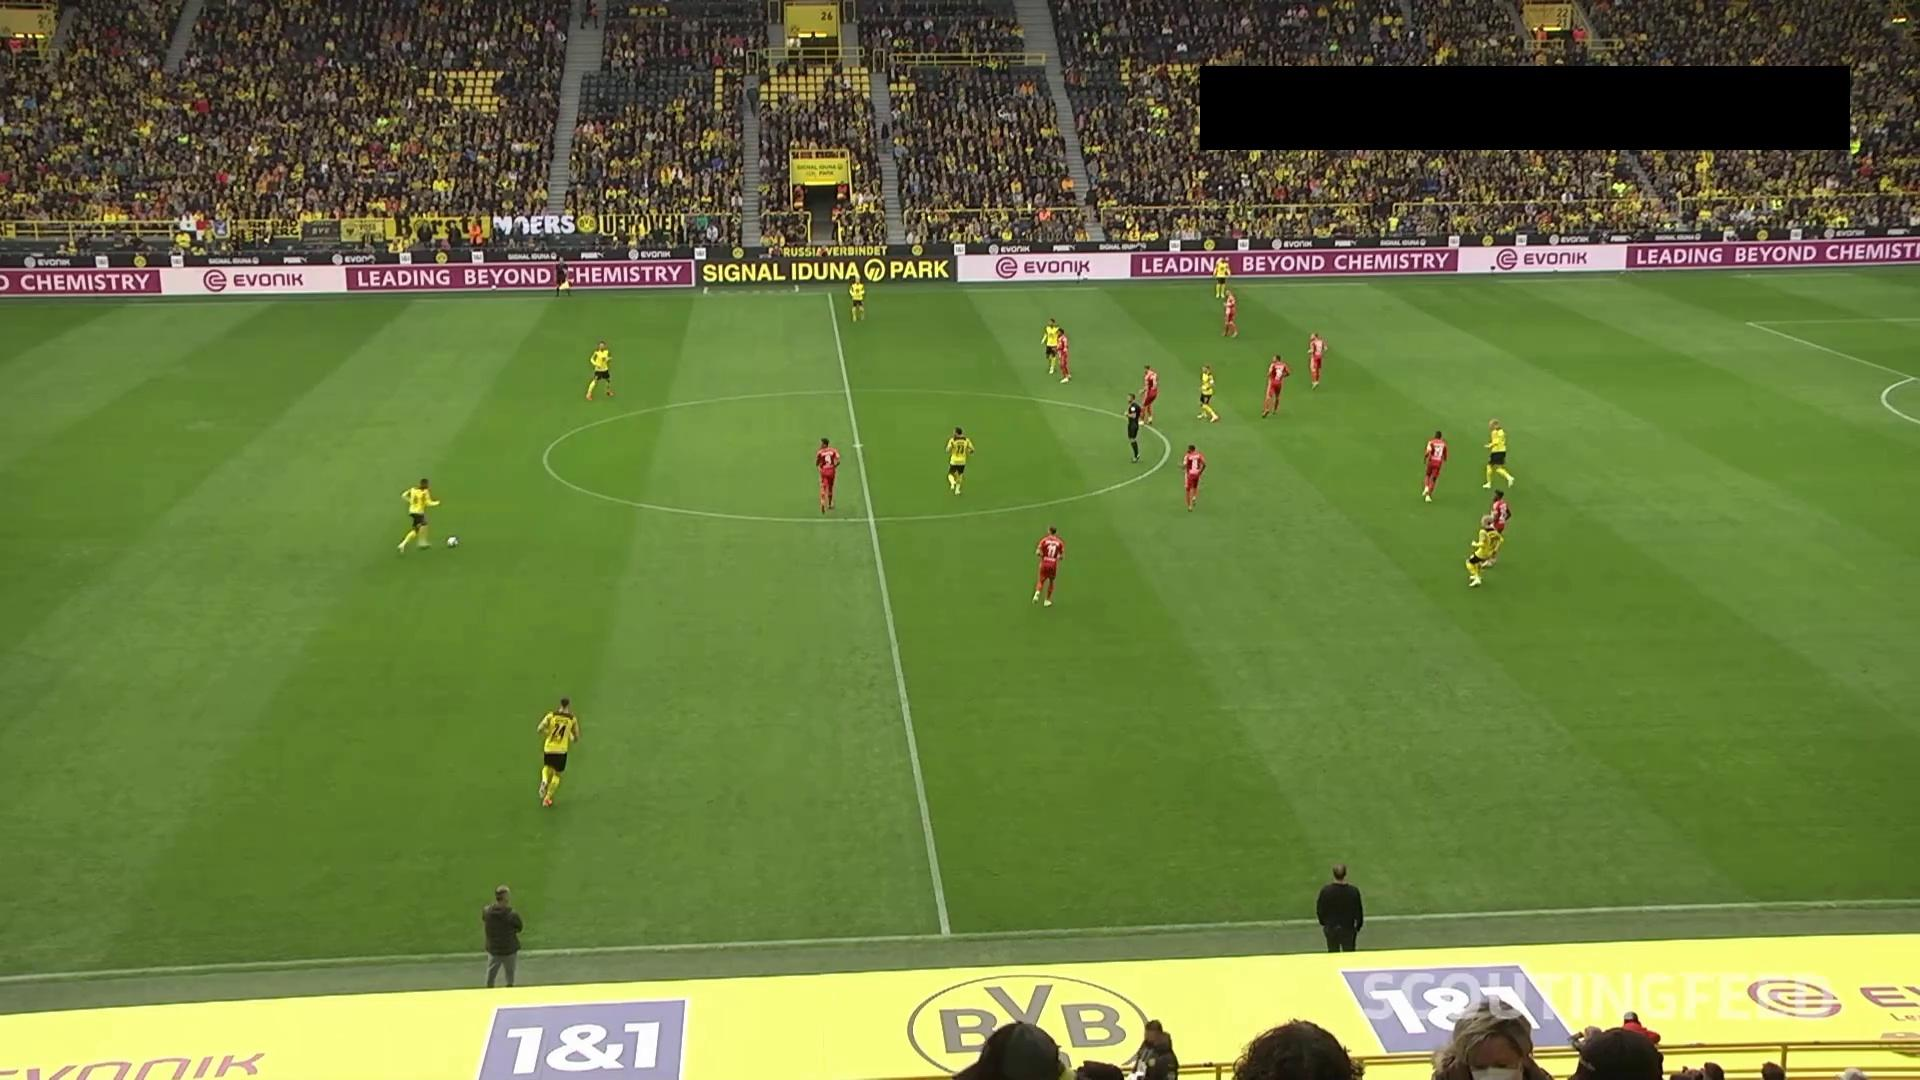Location-of-ball: (434, 520, 472, 558)
